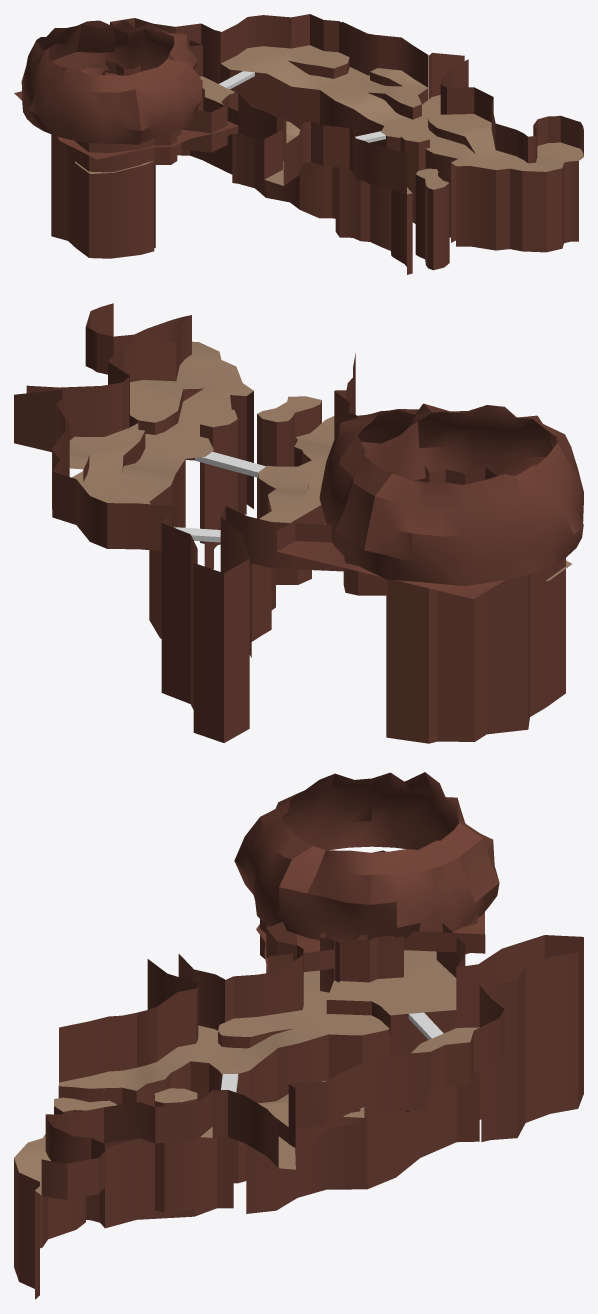
File: Canyon Whitebox.fbx
3 views of the same model, one above another, from view 1: azimuth 30°, elevation 25°; view 2: azimuth 150°, elevation 25°; view 3: azimuth 270°, elevation 25° (orthographic). The views are drawn at different scales.
Visible parts, largest first — view 1: Canyon Mesh, Cave Roof; view 2: Canyon Mesh, Cave Roof, Bridge; view 3: Canyon Mesh, Cave Roof.
Boxes of the visible parts, x1,y1,x2,y2 form: Canyon Mesh: (51, 14, 583, 274); Cave Roof: (14, 19, 238, 159); Canyon Mesh: (14, 303, 571, 743); Cave Roof: (277, 403, 583, 598); Bridge: (195, 451, 265, 477); Canyon Mesh: (14, 850, 583, 1299); Cave Roof: (234, 772, 499, 972).
Size of the model in its own units: 1858 by 947 by 2252.
